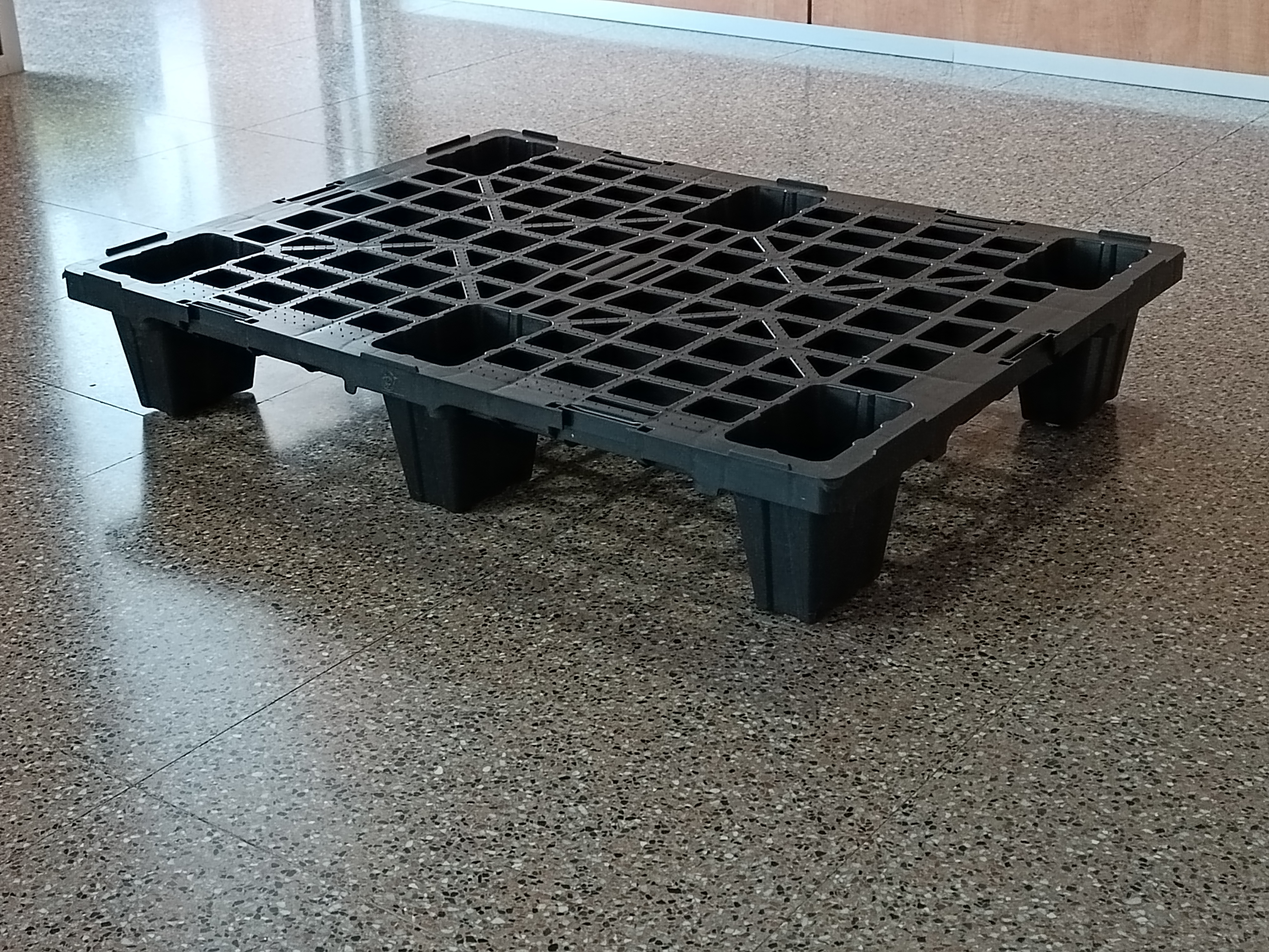block: (733, 458, 915, 614), (383, 397, 529, 516), (108, 307, 258, 417), (1016, 311, 1140, 428)
front: (61, 267, 820, 637)
hole pallet: (483, 416, 741, 598), (193, 330, 400, 489)
